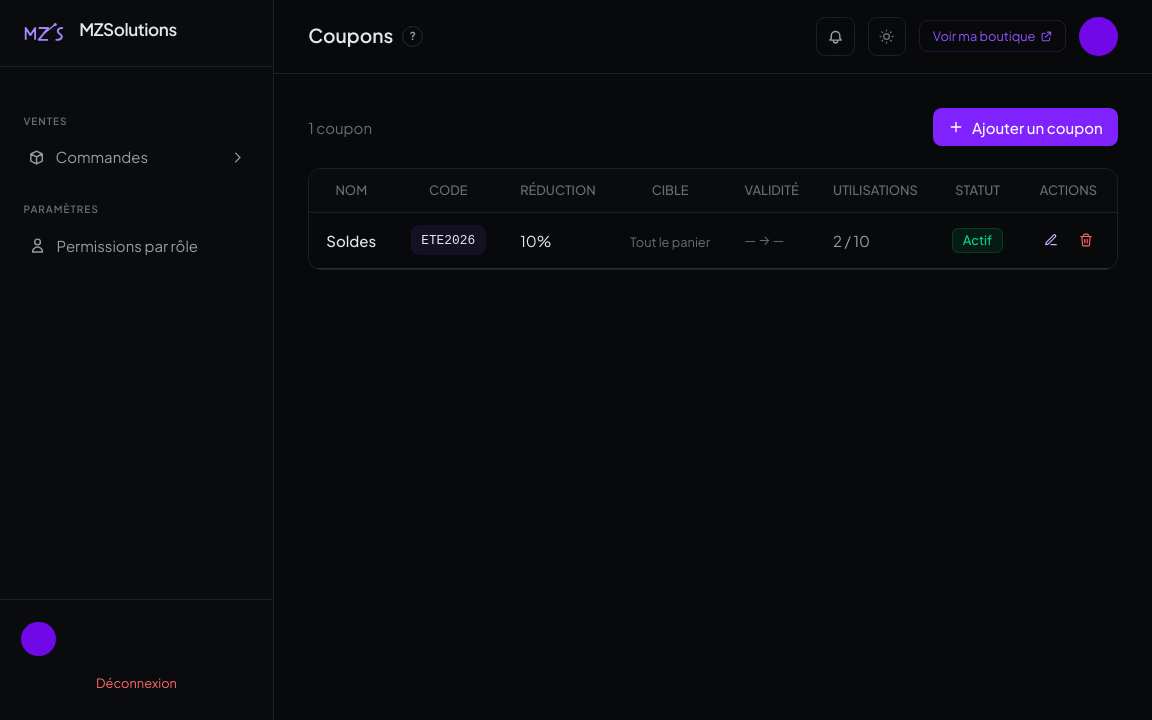
CouponsPage › copies the coupon code to the clipboard
Expected: the text "Soldes" is shown, 309,212 -> 393,269
What coordinates should you click on to do the following:
click the button "ETE2026"
I would click on:
 (448, 240)
Its box is 410,226 -> 486,255.
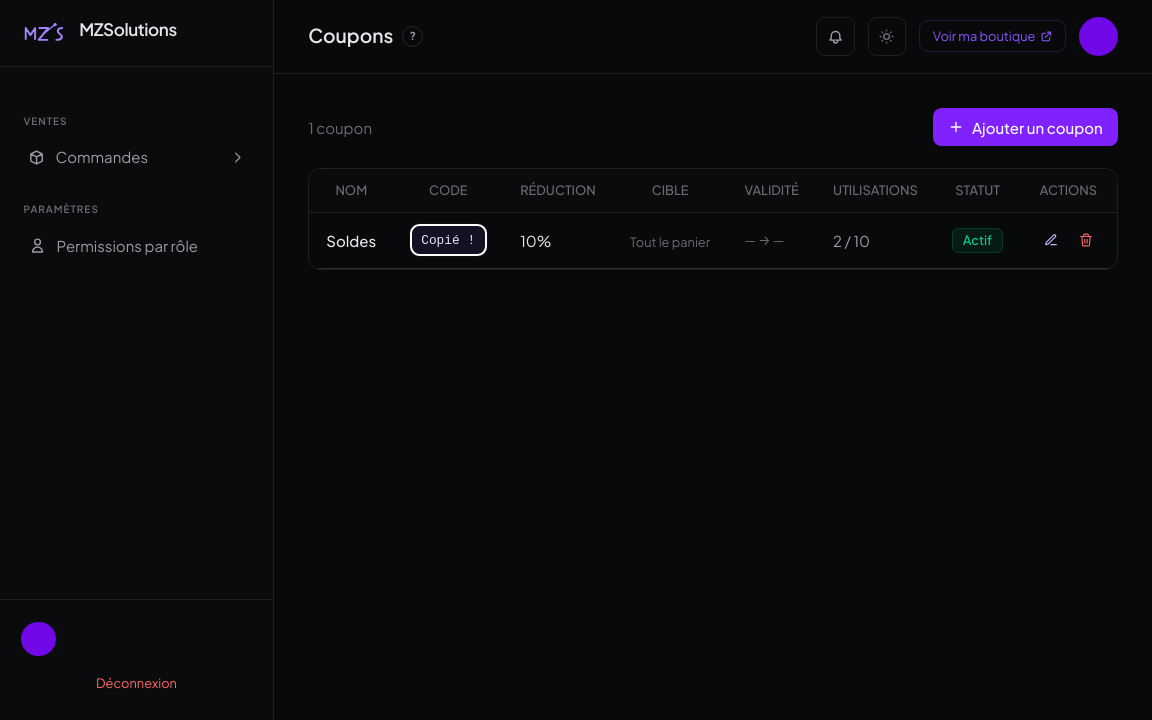
Expected: the button "Copié !" is shown, 410,226 -> 486,255
